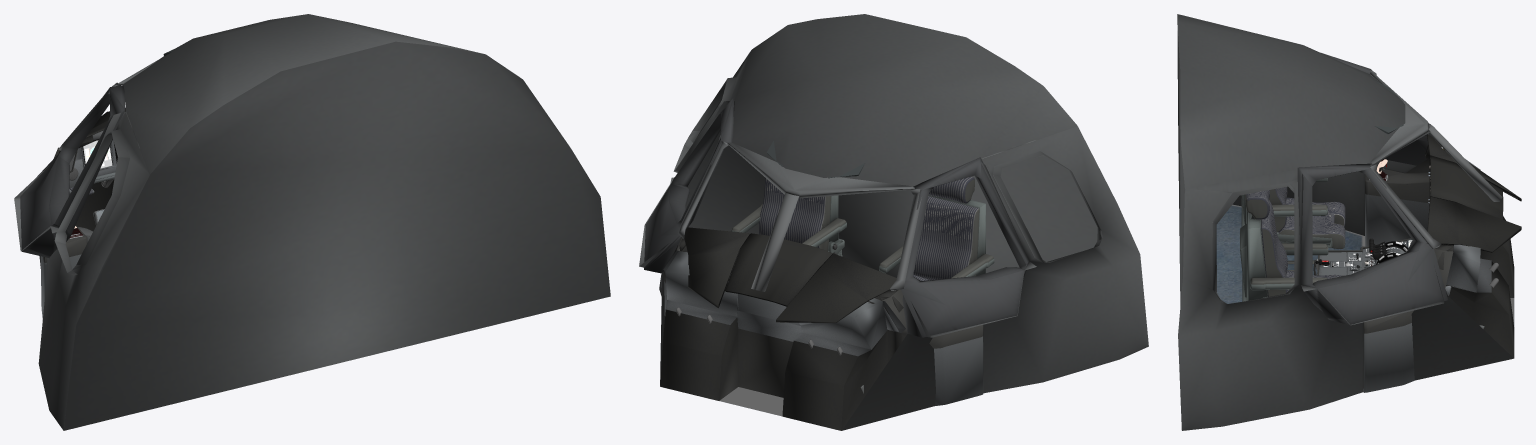
3 renders of one model, left to right at view 1: azimuth 30°, elevation 25°; view 2: azimuth 150°, elevation 25°; view 3: azimuth 270°, elevation 25°, orthographic. The views are drawn at different scales.
Parts seen in each view (by area): view 1: static-material-55, static-material-45, static-material-38, static-material-28; view 2: static-material-55, static-material-38, static-material-45, static-material-30, static-material-28, static-material-42, static-material-35, static-material-40, static-material-39, static-material-44; view 3: static-material-55, static-material-45, static-material-28, static-material-30, static-material-38, static-material-35, static-material-44, static-material-39, static-material-40, static-material-42, static-material-23.
Boxes of the visible parts, x1,y1,x2,y2 form: static-material-55: [14, 14, 610, 430]; static-material-45: [20, 85, 125, 258]; static-material-38: [43, 147, 114, 262]; static-material-28: [40, 139, 116, 319]; static-material-55: [639, 14, 1148, 430]; static-material-38: [660, 237, 983, 430]; static-material-45: [644, 97, 1029, 337]; static-material-30: [682, 227, 896, 322]; static-material-28: [661, 250, 983, 405]; static-material-42: [759, 176, 978, 280]; static-material-35: [678, 141, 921, 291]; static-material-40: [732, 179, 993, 278]; static-material-39: [731, 194, 994, 276]; static-material-44: [660, 317, 783, 416]; static-material-55: [1177, 14, 1513, 430]; static-material-45: [1297, 53, 1448, 324]; static-material-28: [1363, 159, 1491, 392]; static-material-30: [1427, 134, 1521, 252]; static-material-38: [1364, 159, 1514, 357]; static-material-35: [1370, 69, 1502, 248]; static-material-44: [1216, 204, 1514, 326]; static-material-39: [1240, 178, 1332, 301]; static-material-40: [1245, 189, 1344, 296]; static-material-42: [1246, 187, 1345, 296]; static-material-23: [1321, 241, 1406, 275].
Bounding box in the file's own units: 3.32 × 1.79 × 2.08.
Materials: 130 (125 with a texture image).
